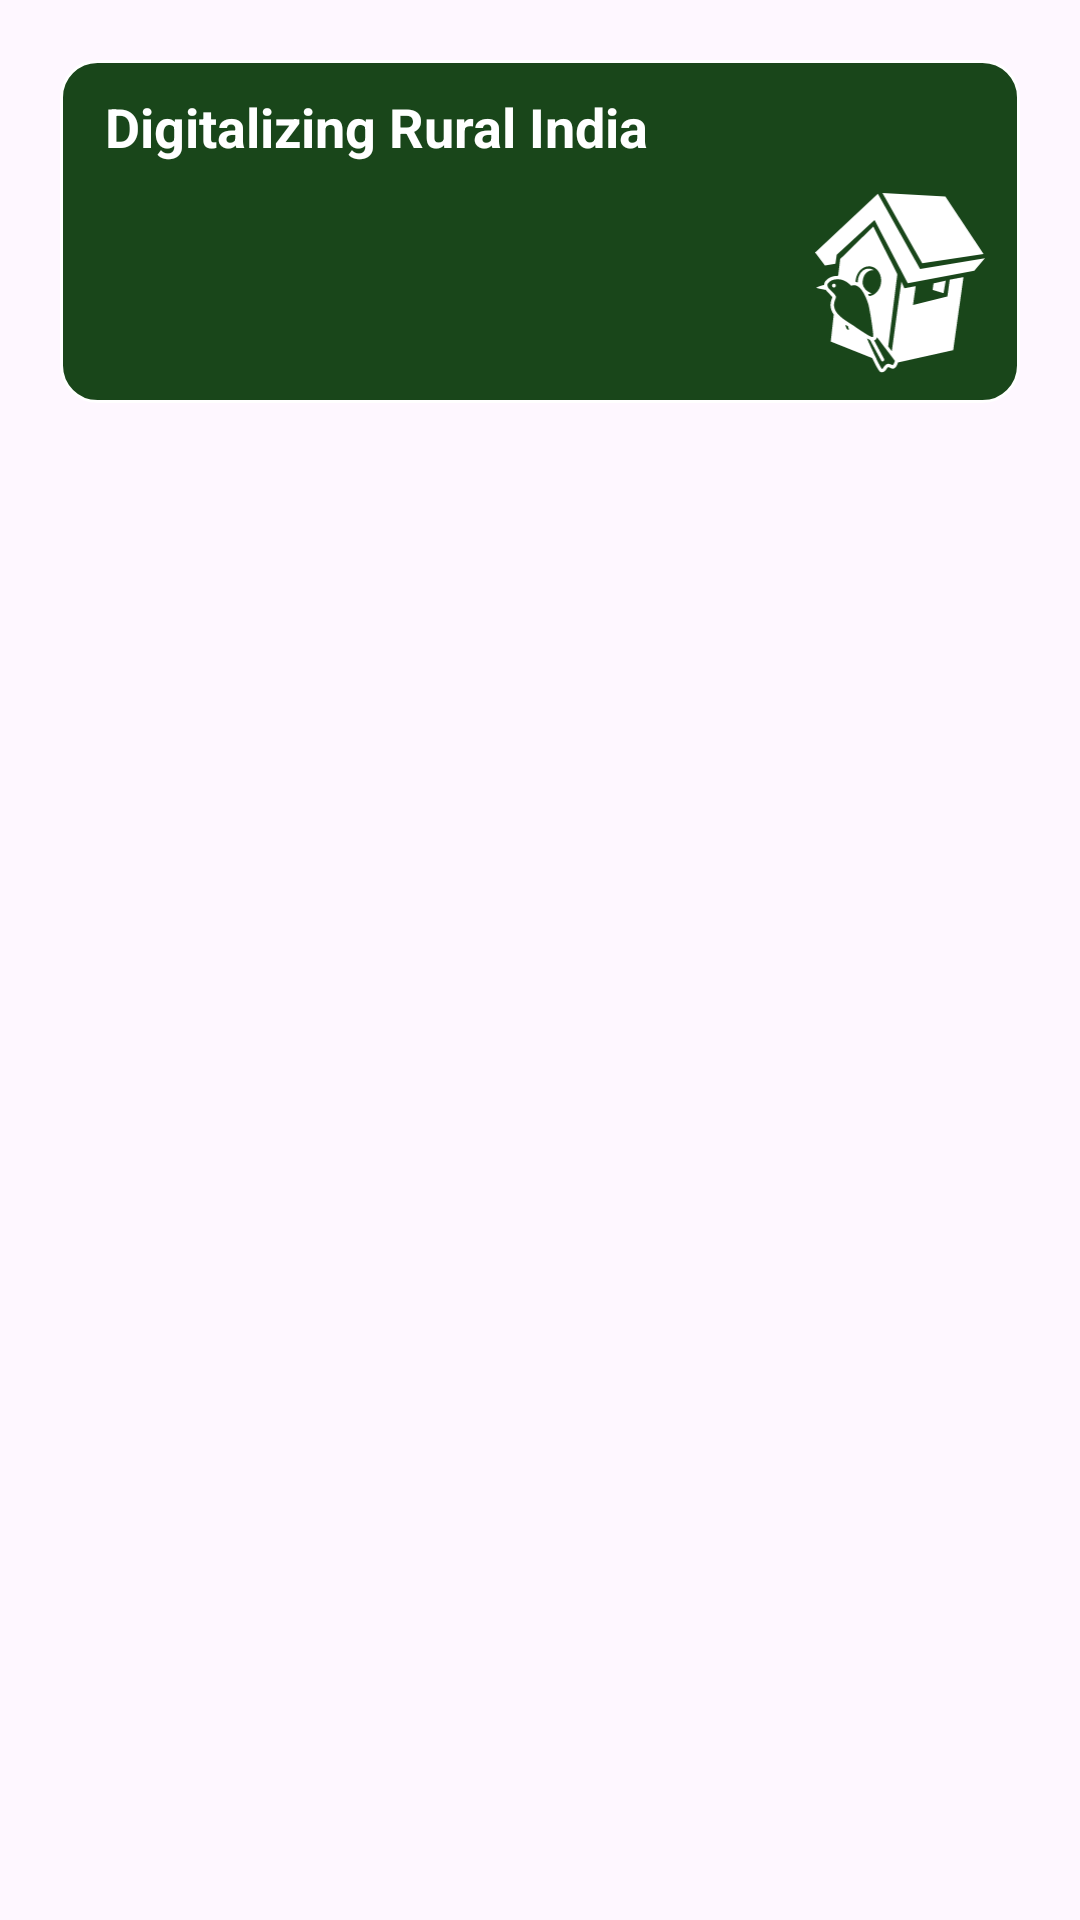

Screen size 1080 x 1920. Icon name, then its box in pixels as region(x1, y1, x2, y2):
home iv: region(815, 193, 985, 373)
